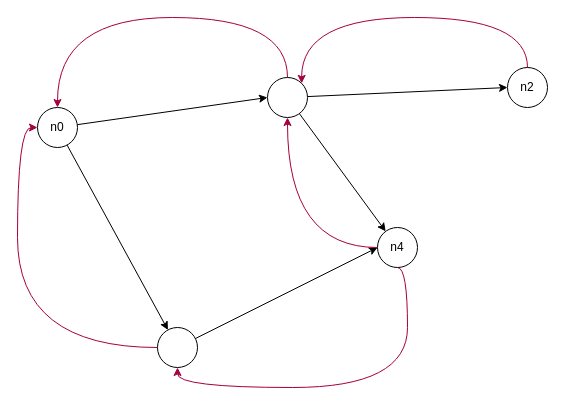
Some shapes in this 565 by 405 pixel diagram are drawn without their labels. Here are the shapes that lost their labels. From the top down, the box of each, then its label:
(266, 76, 308, 118): n1
(156, 326, 198, 368): n3
